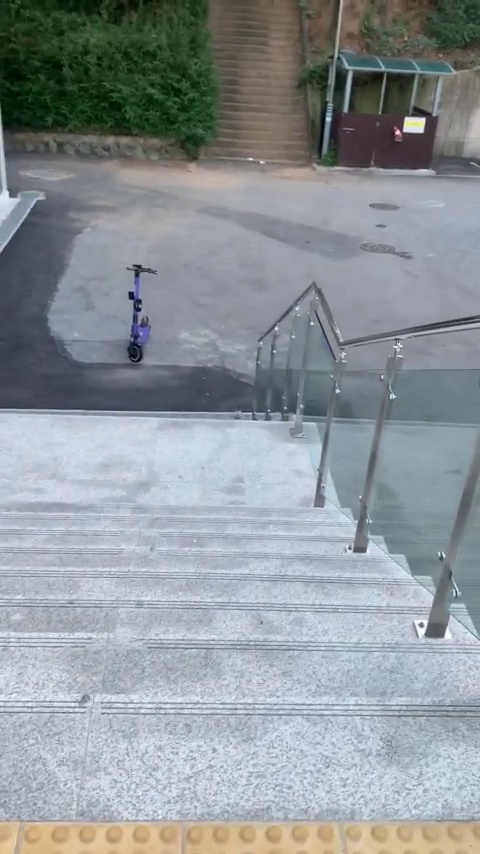beam: (115, 261, 160, 367)
